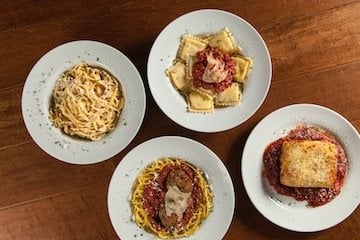sushi: (20, 39, 147, 164)
